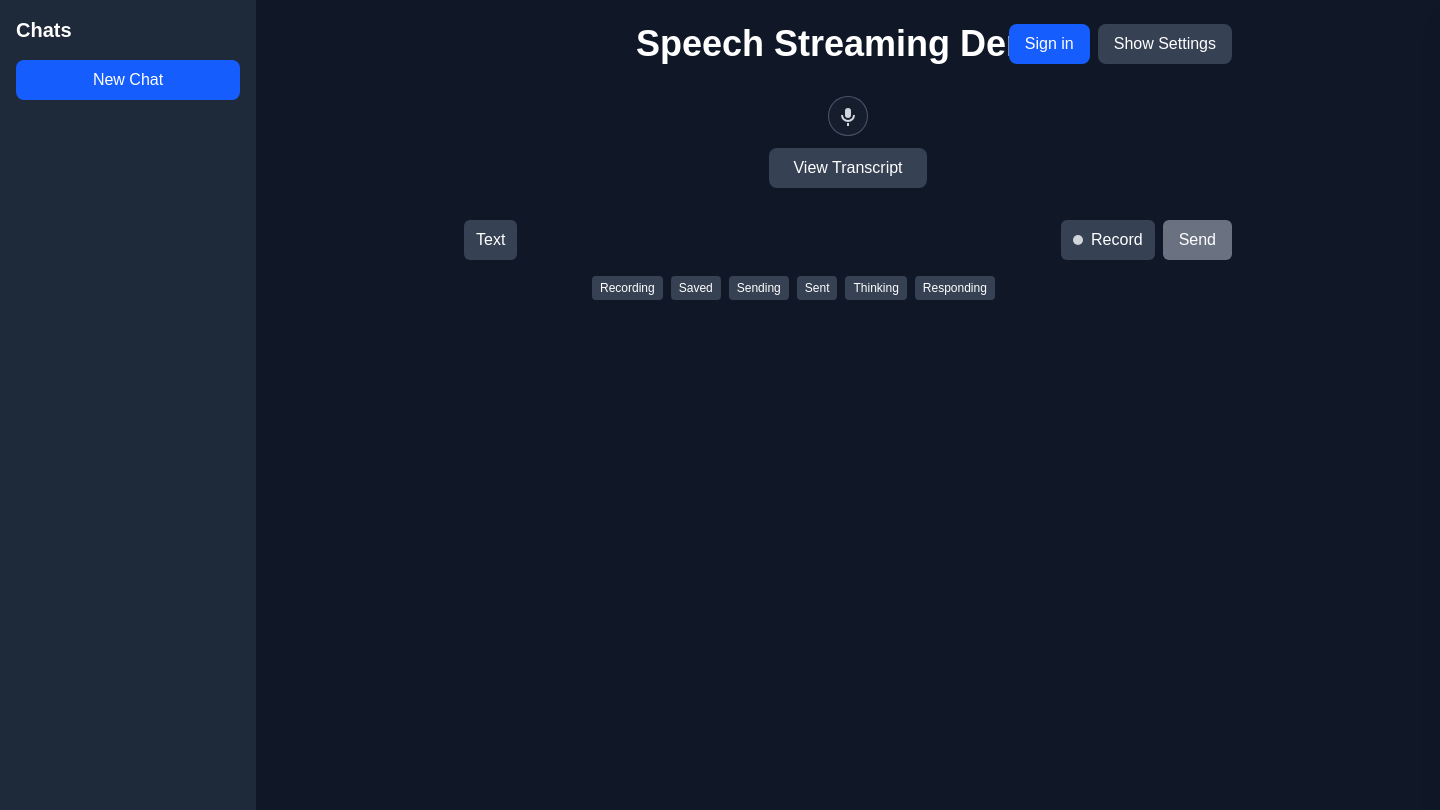
it: Sign in modal UI › Sign in button is visible and opens modal with form fields
This screenshot has width=1440, height=810.
Step 1. Click the button "Sign in" → (1049, 44), box x1=1009 y1=24 x2=1090 y2=64
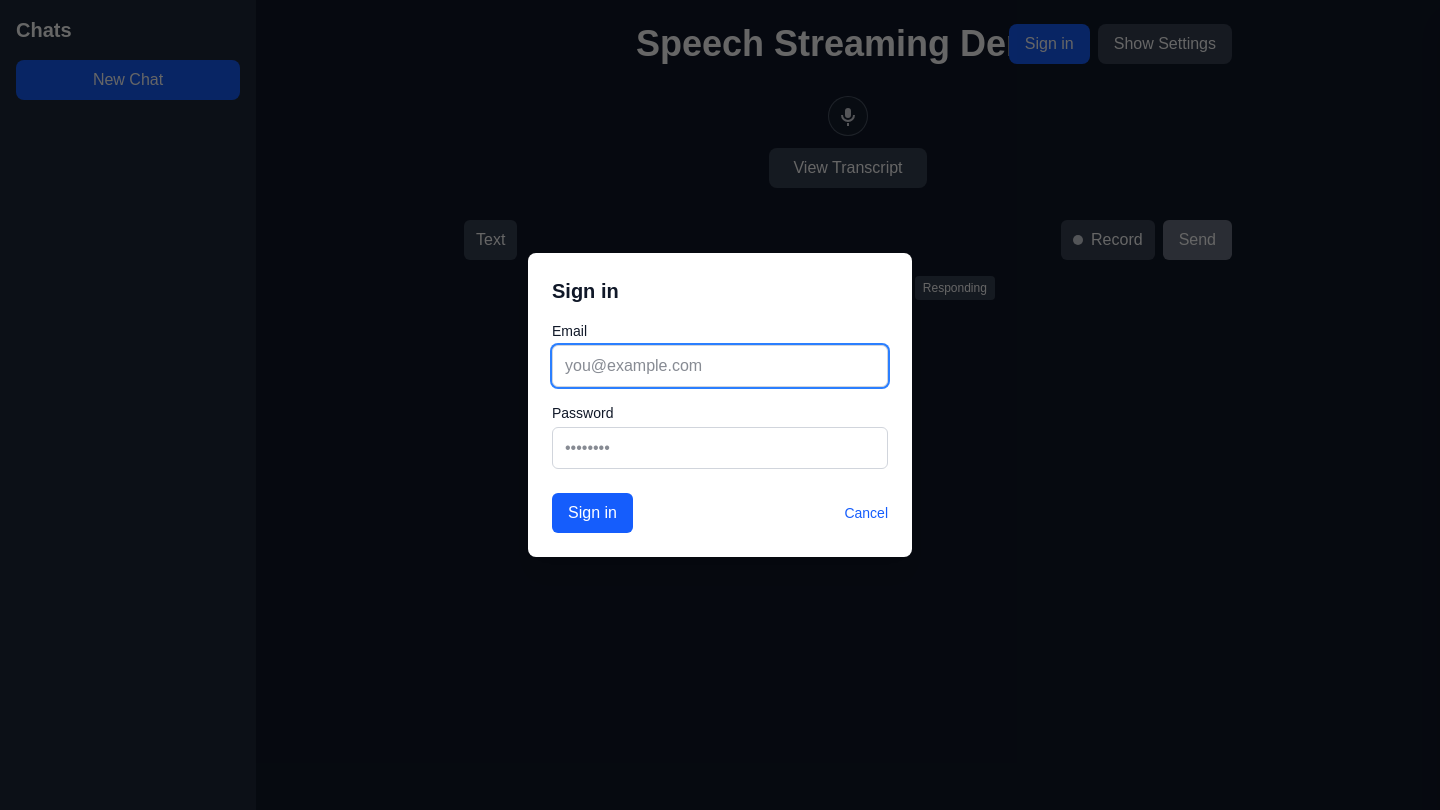
Now the heading "Sign in" is shown, box x1=552 y1=280 x2=619 y2=302
Now the field labelled "Email" is shown, box x1=552 y1=345 x2=888 y2=387
Now the password field labelled "Password" is shown, box x1=552 y1=427 x2=888 y2=469
